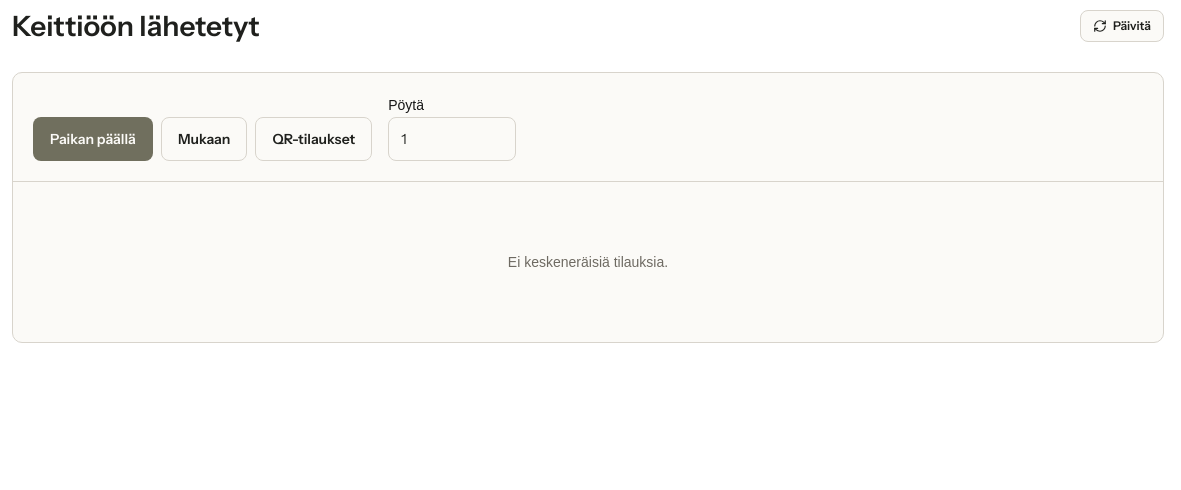
Scenario: polls new QR orders while selected and refreshes the displayed QR view from the header
Click the button "QR-tilaukset": [314, 139] box x1=255 y1=117 x2=372 y2=161
Wait 5000 ms
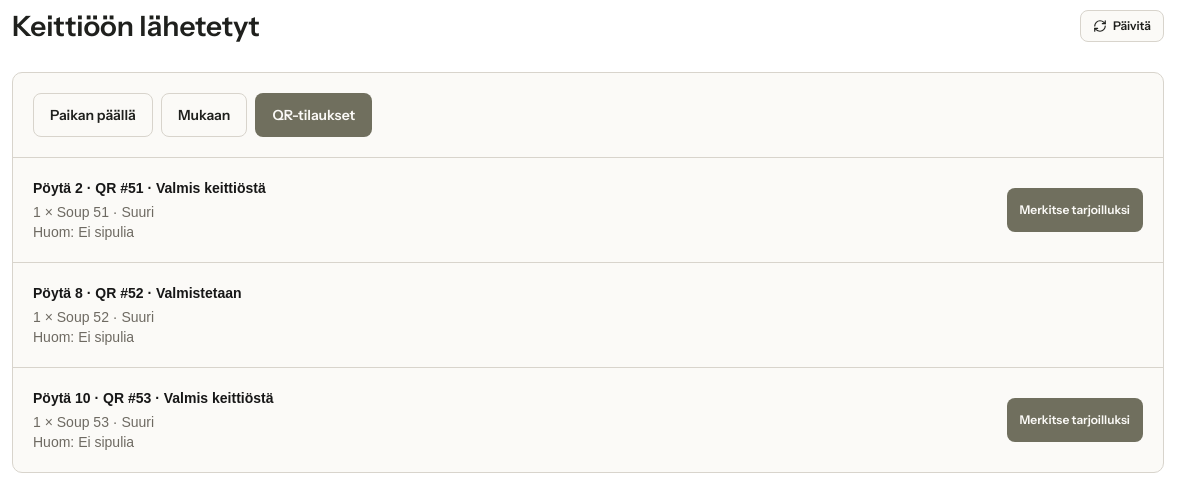
Result: the heading "Pöytä 10 · QR #53 · Valmis keittiöstä" is shown at x1=33 y1=390 x2=274 y2=406
Click the button "Päivitä": [1122, 26] box x1=1080 y1=10 x2=1164 y2=42
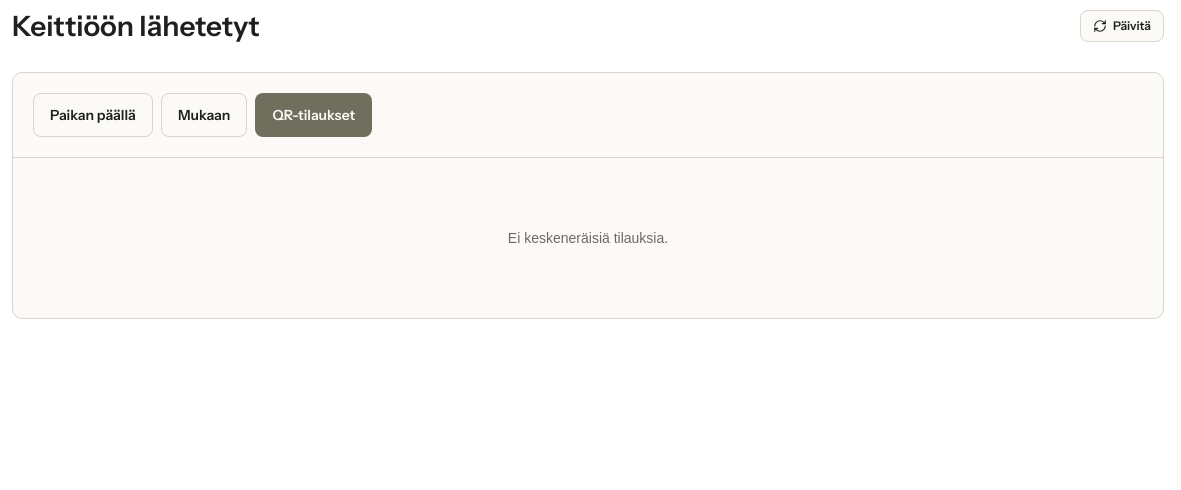
Result: the text "Ei keskeneräisiä tilauksia." is shown at x1=508 y1=230 x2=668 y2=246
